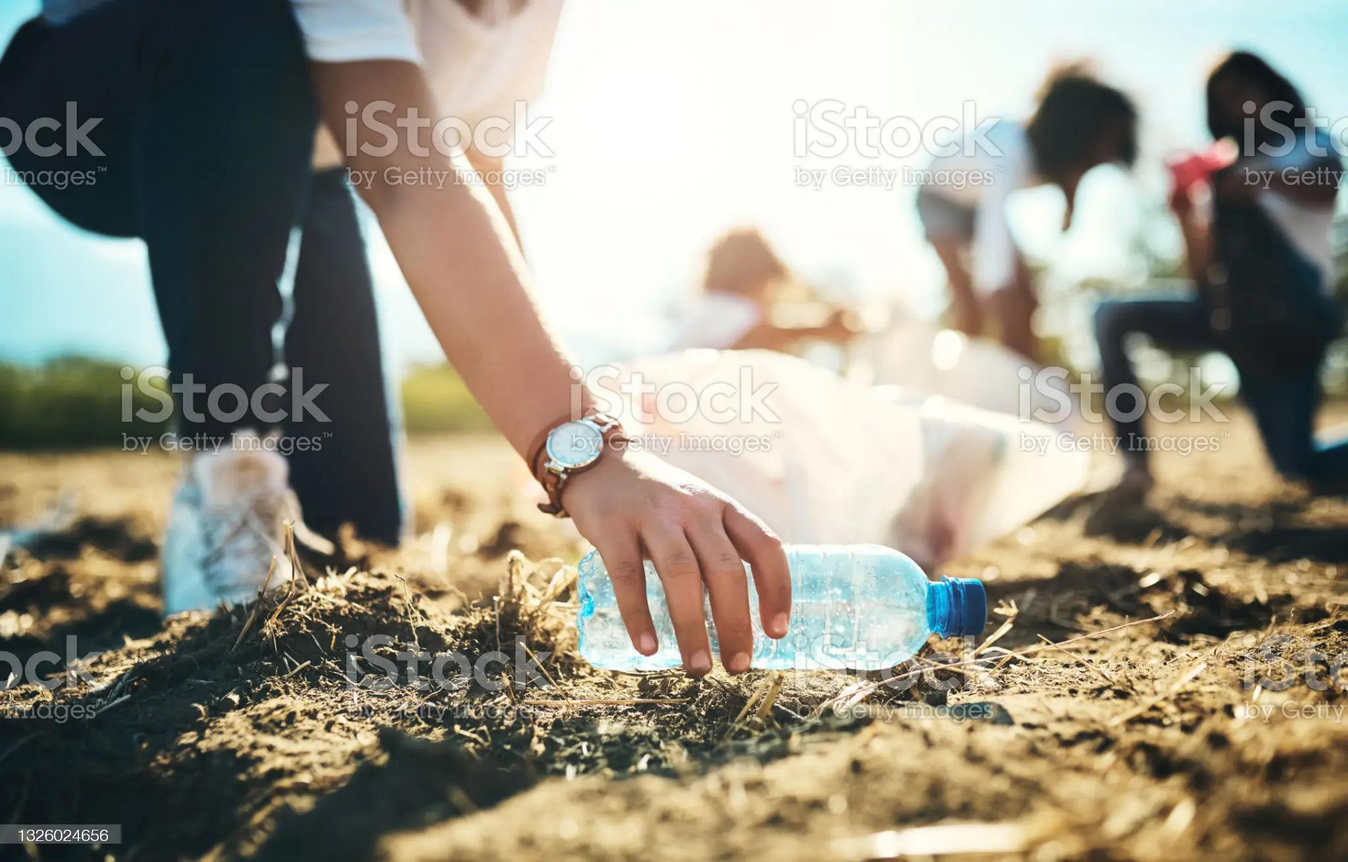Plastic: (576, 536, 994, 677)
